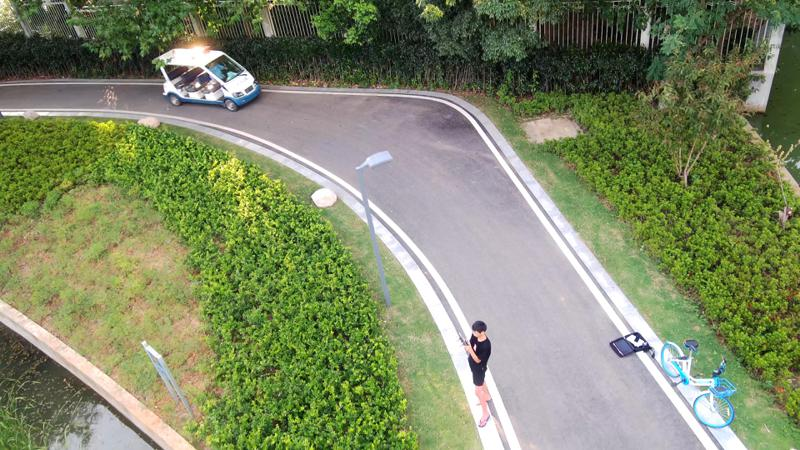passerby: (461, 319, 492, 429)
